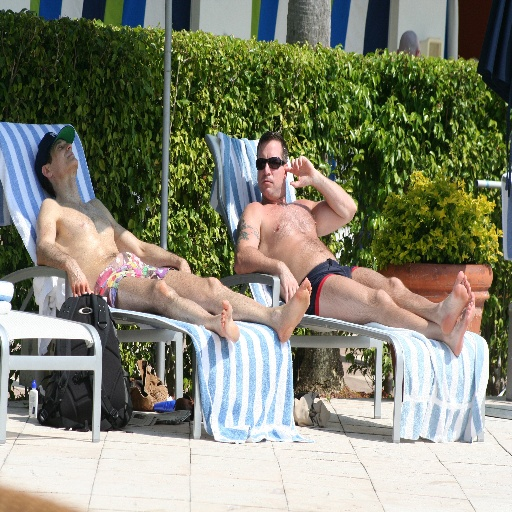hand: (65, 259, 94, 299), (284, 155, 314, 189), (278, 263, 299, 304), (177, 259, 192, 274)
